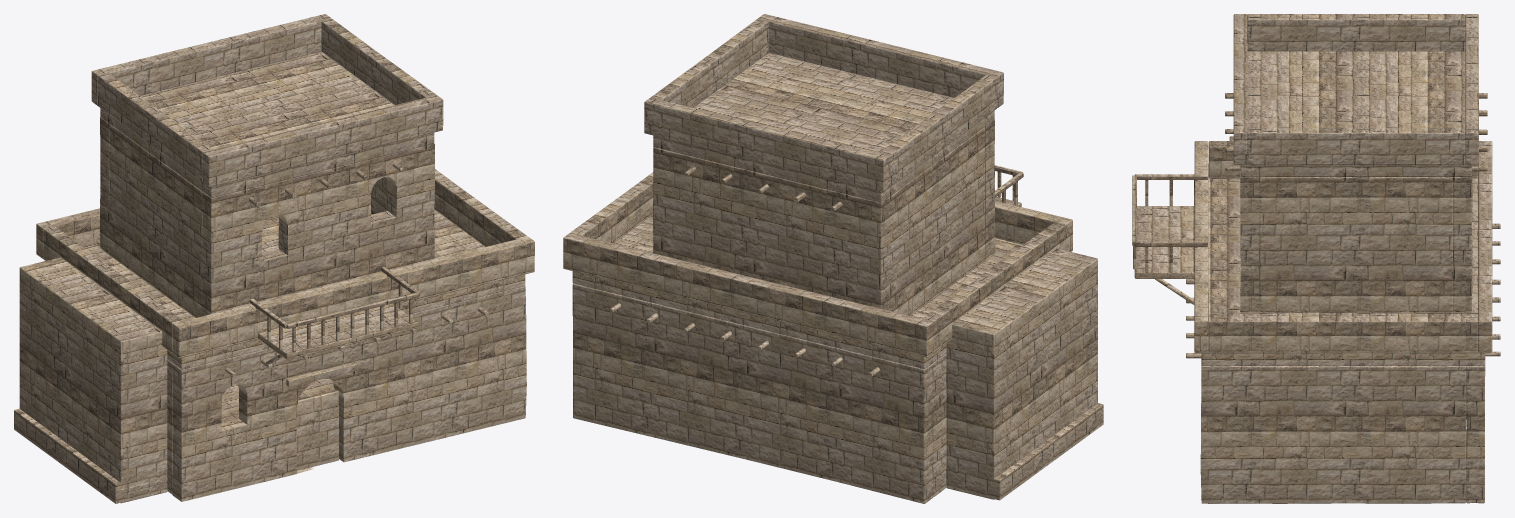
The picture shows the model from 3 angles, left to right: view 1: azimuth 30°, elevation 25°; view 2: azimuth 150°, elevation 25°; view 3: azimuth 270°, elevation 25°; orthographic projection. The views are drawn at different scales.
Parts seen in each view (by area): view 1: house; view 2: house; view 3: house.
Part boxes in pixels (<box>): house: <box>14,14,534,503</box>; house: <box>563,14,1103,503</box>; house: <box>1132,14,1500,503</box>.
Bounding box in the file's own units: 11.58 × 8.91 × 8.81.
Materials: 1 (1 with a texture image).
